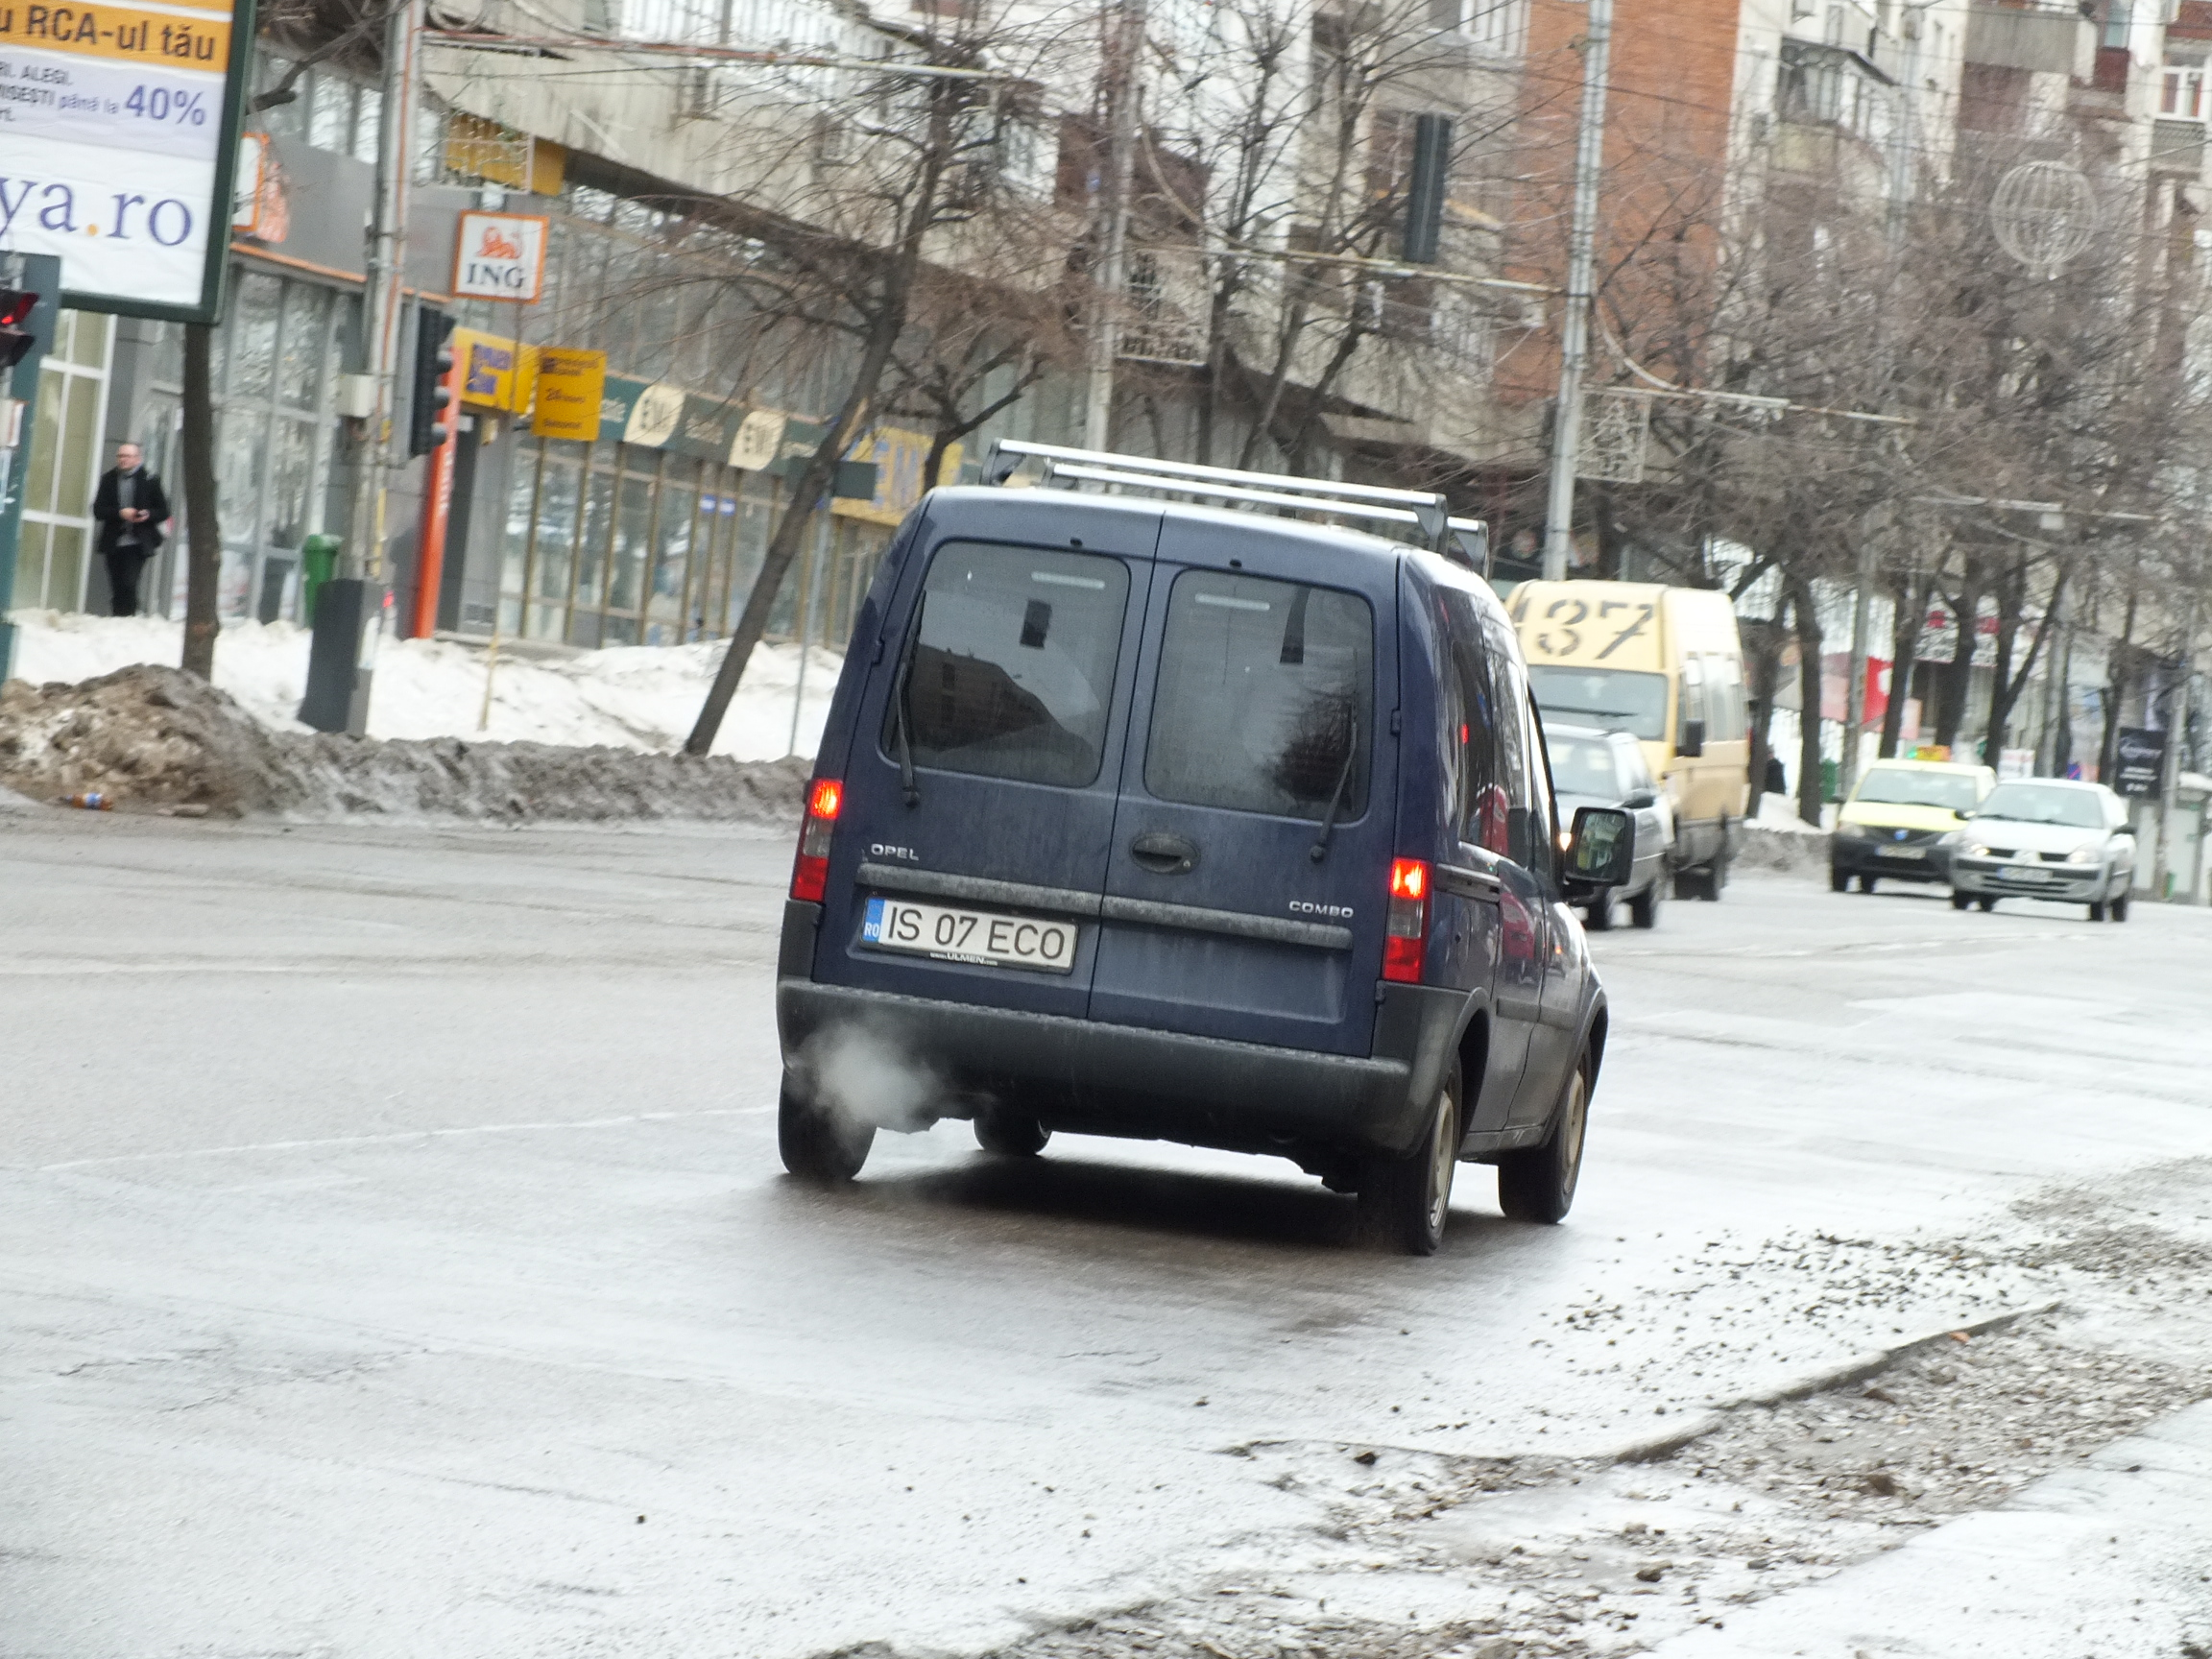IS07ECO: (858, 903, 1070, 967)
